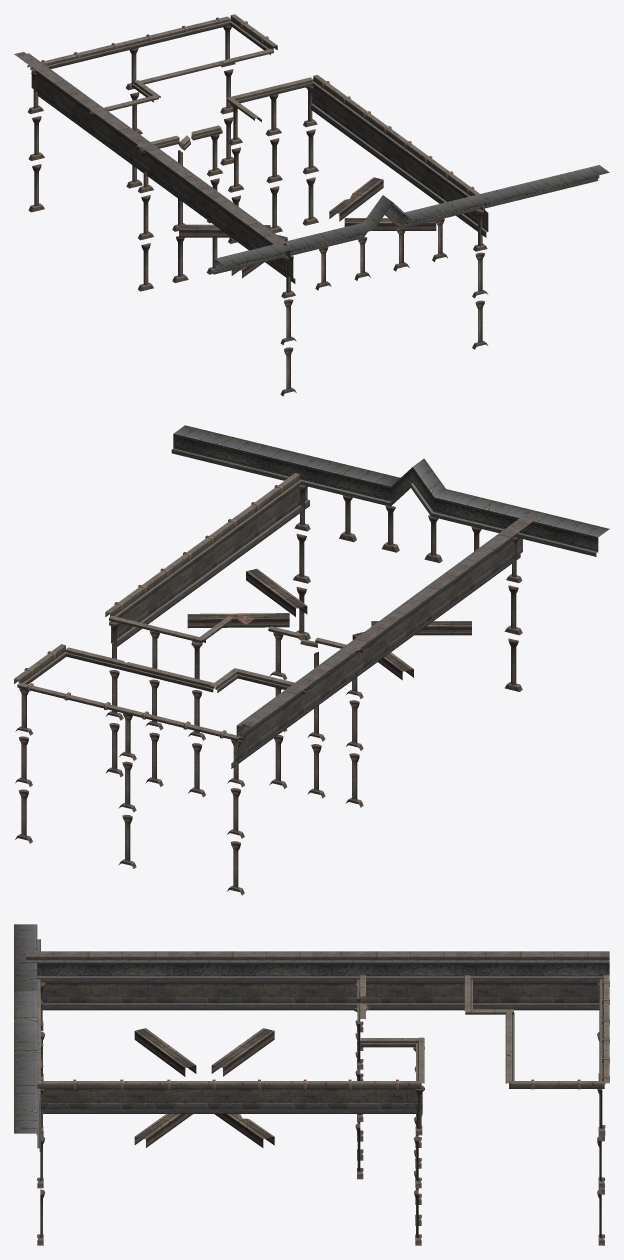
The model's file is zhuti.FBX.
3 renders of one model, top to bottom at view 1: azimuth 30°, elevation 25°; view 2: azimuth 150°, elevation 25°; view 3: azimuth 270°, elevation 25°, orthographic. The views are drawn at different scales.
Parts seen in each view (by area): view 1: zhuti, Box053; view 2: zhuti, Box053; view 3: zhuti, Box053.
Boxes of the visible parts, x1,y1,x2,y2 form: zhuti: [14, 14, 609, 396]; Box053: [179, 177, 436, 278]; zhuti: [14, 425, 609, 895]; Box053: [187, 568, 471, 680]; zhuti: [14, 924, 609, 1245]; Box053: [134, 1028, 274, 1147].
Size of the model in its own units: 5522 by 2434 by 6647.
